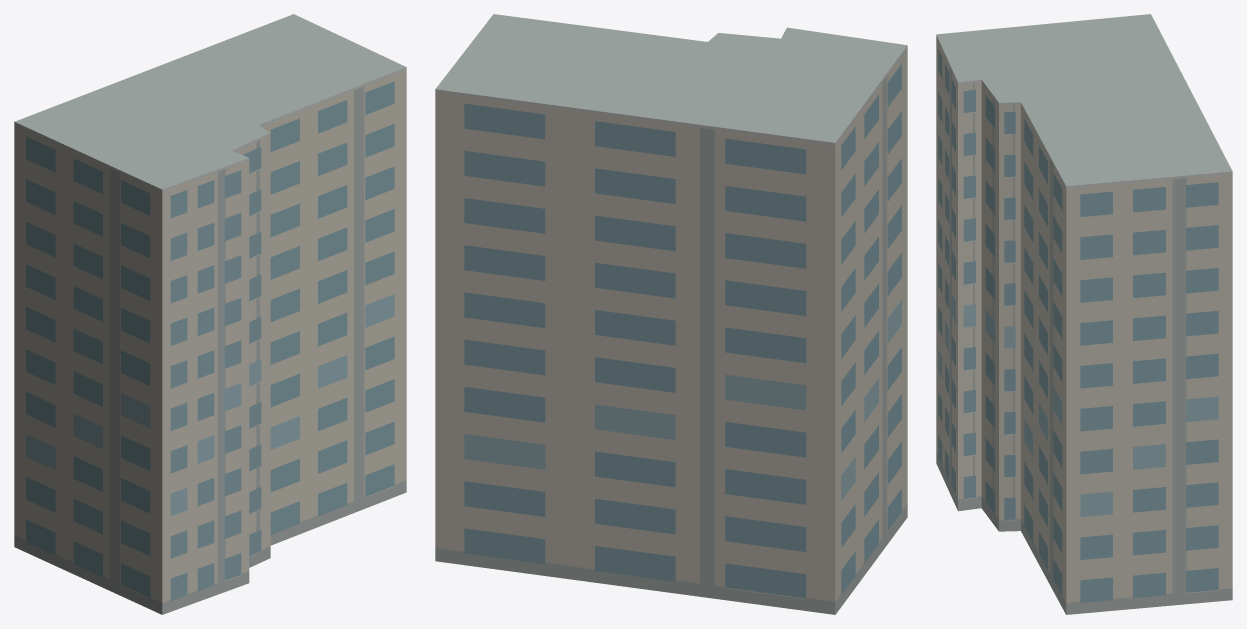
The model's file is residential-0435c52a-569b-40c4-b3dc-391a7465e066.glb.
3 views of the same model, side by side, from view 1: azimuth 30°, elevation 25°; view 2: azimuth 150°, elevation 25°; view 3: azimuth 270°, elevation 25° (orthographic). The views are drawn at different scales.
Visible parts, largest first — view 1: residential-0435c52a-569b-40c4-b3dc-391a7465e066.tmp; view 2: residential-0435c52a-569b-40c4-b3dc-391a7465e066.tmp; view 3: residential-0435c52a-569b-40c4-b3dc-391a7465e066.tmp.
Boxes of the visible parts, x1,y1,x2,y2 form: residential-0435c52a-569b-40c4-b3dc-391a7465e066.tmp: (14, 14, 406, 614); residential-0435c52a-569b-40c4-b3dc-391a7465e066.tmp: (435, 14, 907, 614); residential-0435c52a-569b-40c4-b3dc-391a7465e066.tmp: (936, 14, 1232, 614).
Size of the model in its own units: 34.47 by 40 by 25.08.
